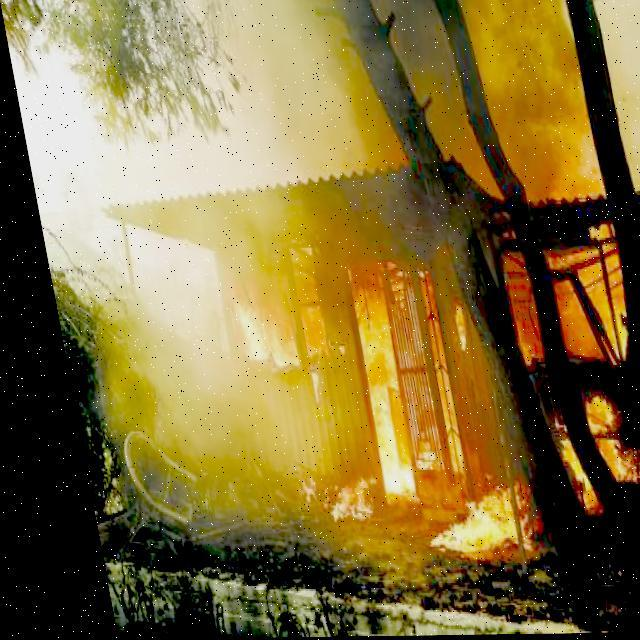Fire: (203, 214, 639, 556)
